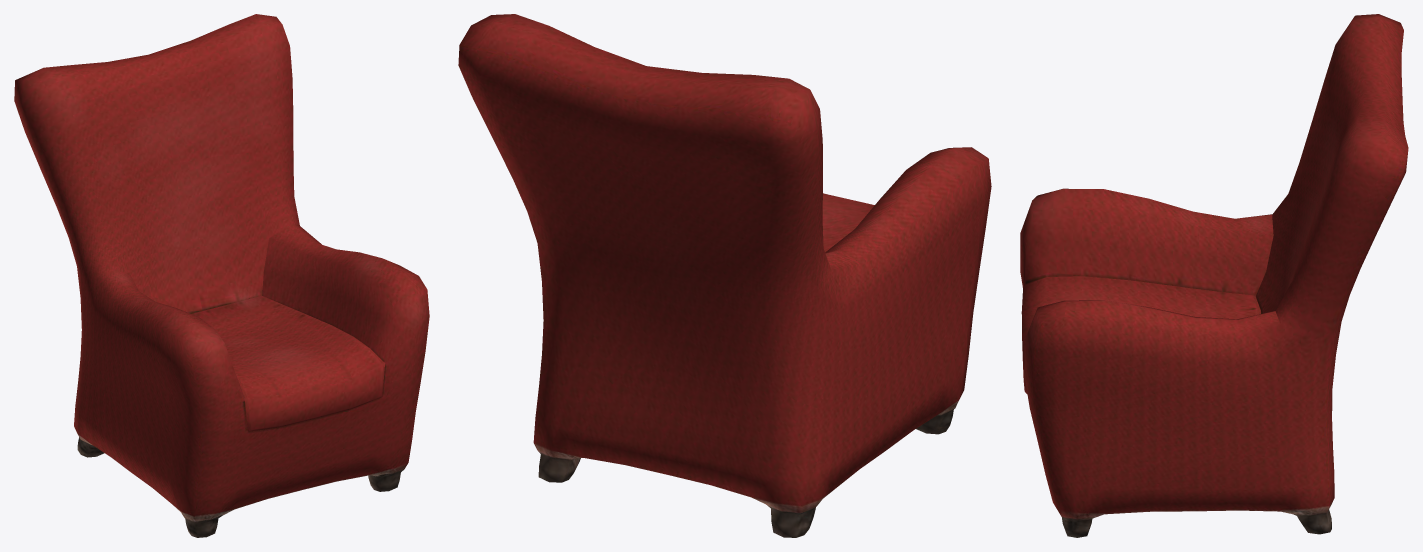
The model's file is armchair_vi.fbx.
3 renders of one model, left to right at view 1: azimuth 30°, elevation 25°; view 2: azimuth 150°, elevation 25°; view 3: azimuth 270°, elevation 25°, orthographic. The views are drawn at different scales.
Parts seen in each view (by area): view 1: Armchair; view 2: Armchair; view 3: Armchair.
Boxes of the visible parts, x1=… form: Armchair: x1=14, y1=14, x2=429, y2=537; Armchair: x1=458, y1=14, x2=991, y2=537; Armchair: x1=1020, y1=14, x2=1408, y2=537.
Bounding box in the file's own units: 0.0112 × 0.0149 × 0.0129.
Materials: 1 (1 with a texture image).
